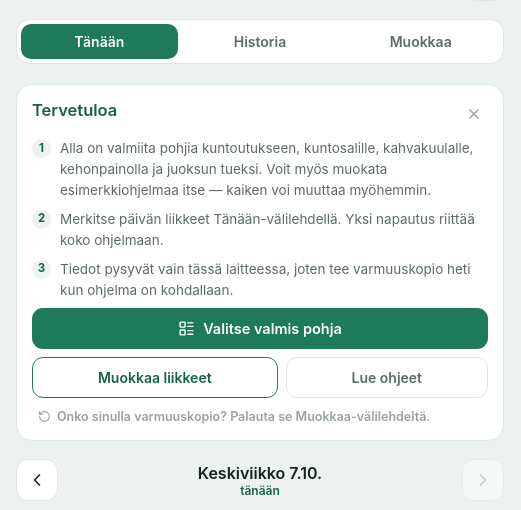
Test: daily backup reminder › offers backup settings under Muokkaa
Click the button "Muokkaa" at coordinates (421, 42), box [342,24,499,59]
(page scrolled)
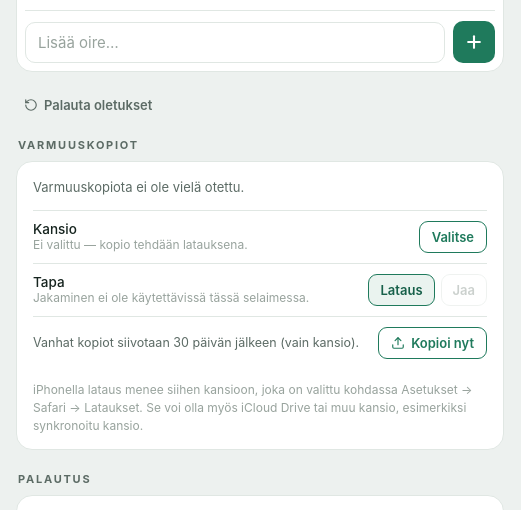
Expected: the text "Varmuuskopiot" is shown, [18,138,139,152]
Expected: the button "Lataus" is shown, [368,274,434,306]
Expected: the button "Jaa" is disabled, [440,274,487,306]
